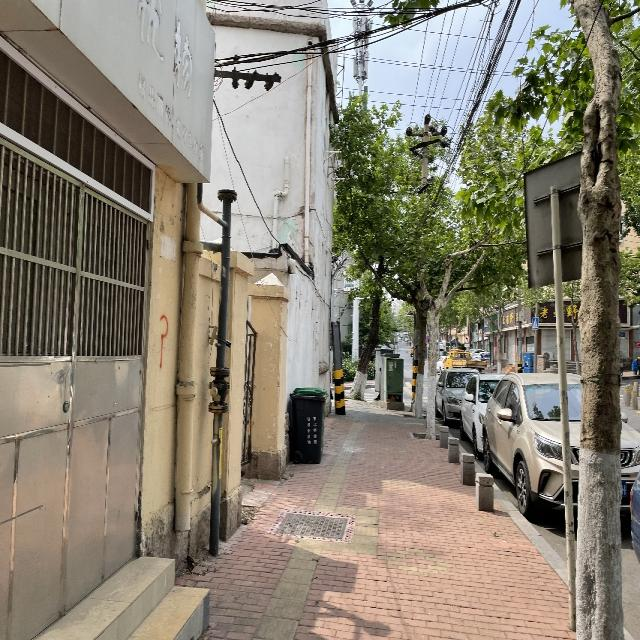garbage_bin: (288, 386, 323, 462)
